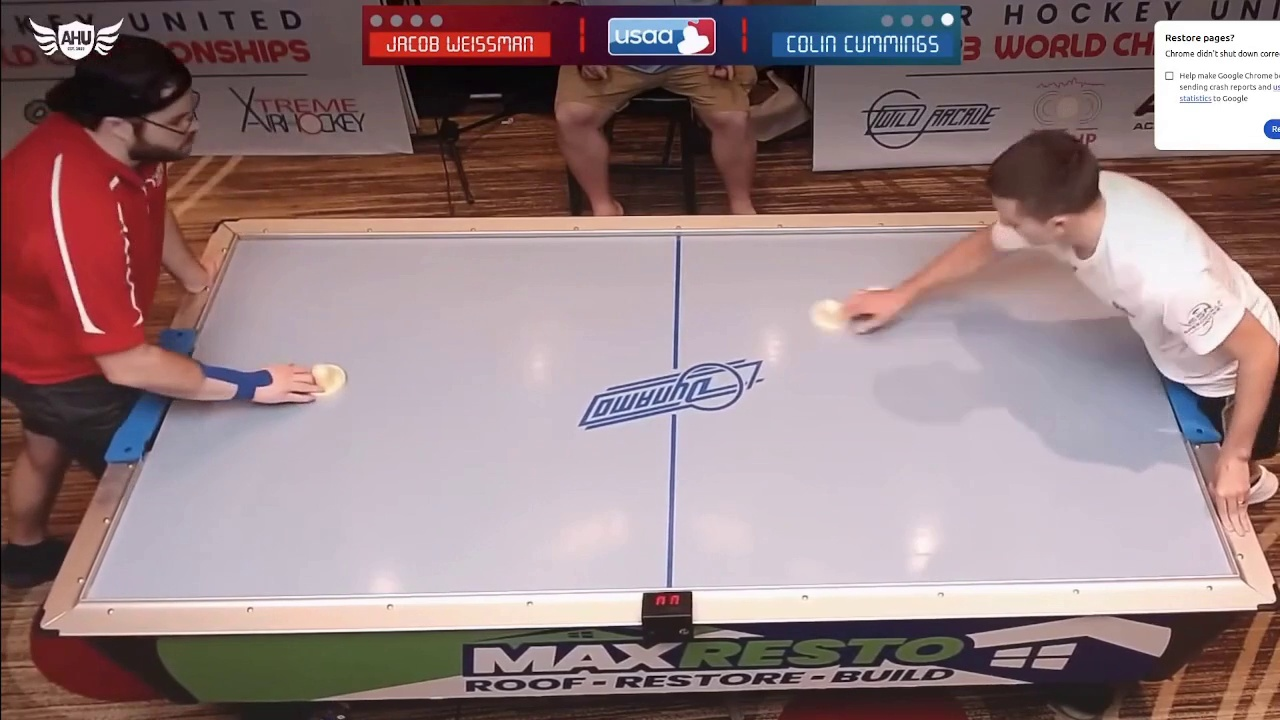player: (305, 362, 350, 398), (811, 300, 851, 332)
table: (76, 215, 1268, 605)
